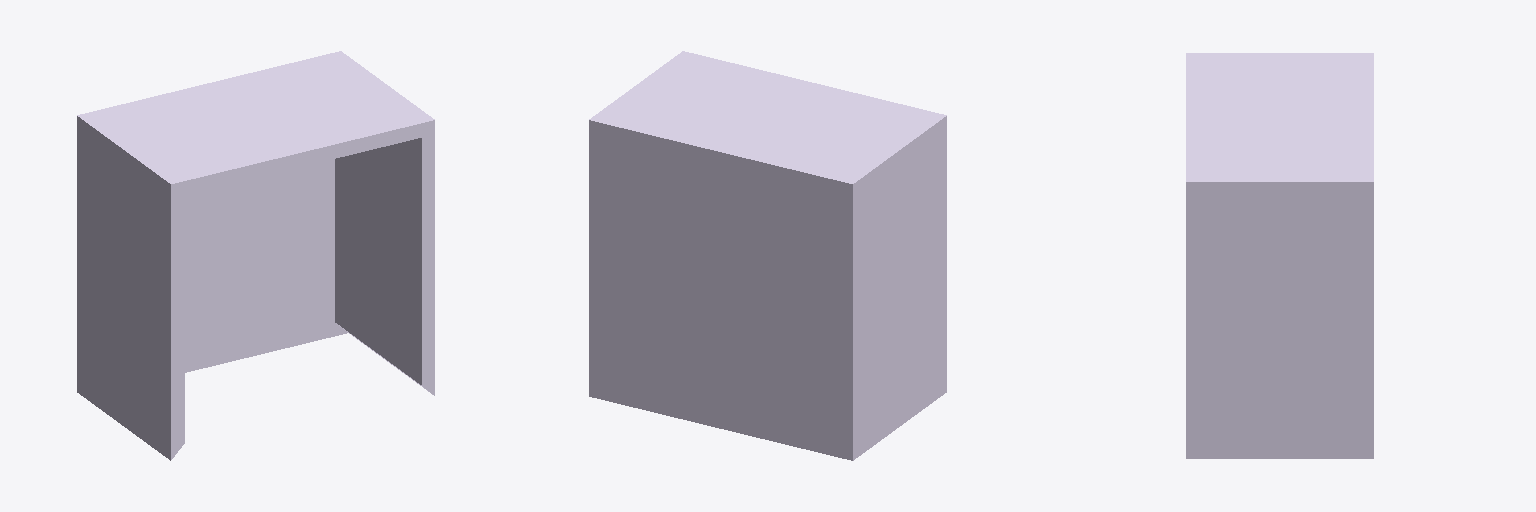
File: stanza.obj
The picture shows the model from 3 angles: view 1: azimuth 30°, elevation 25°; view 2: azimuth 150°, elevation 25°; view 3: azimuth 270°, elevation 25°; orthographic projection.
Parts seen in each view (by area): view 1: Cube; view 2: Cube; view 3: Cube.
Part boxes in pixels (left/top/right/bottom): Cube: left=77, top=51, right=434, bottom=460; Cube: left=589, top=51, right=946, bottom=460; Cube: left=1186, top=53, right=1373, bottom=458.
Size of the model in its own units: 20 by 20 by 12.37.